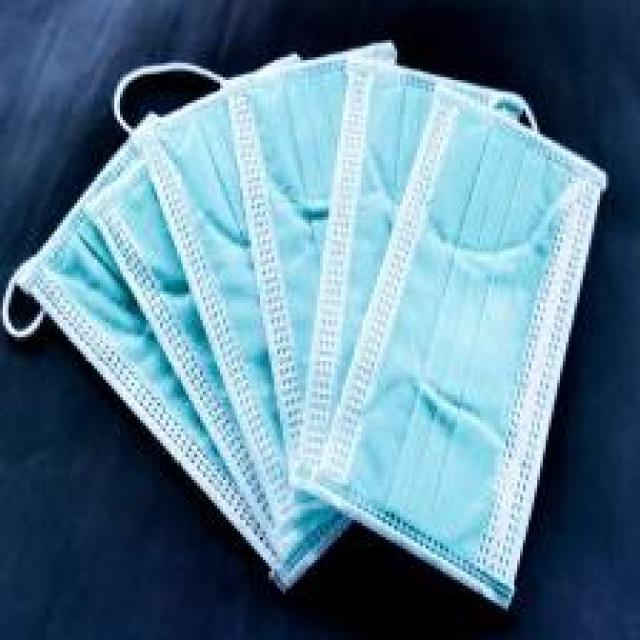Mask: (24, 60, 595, 598)
